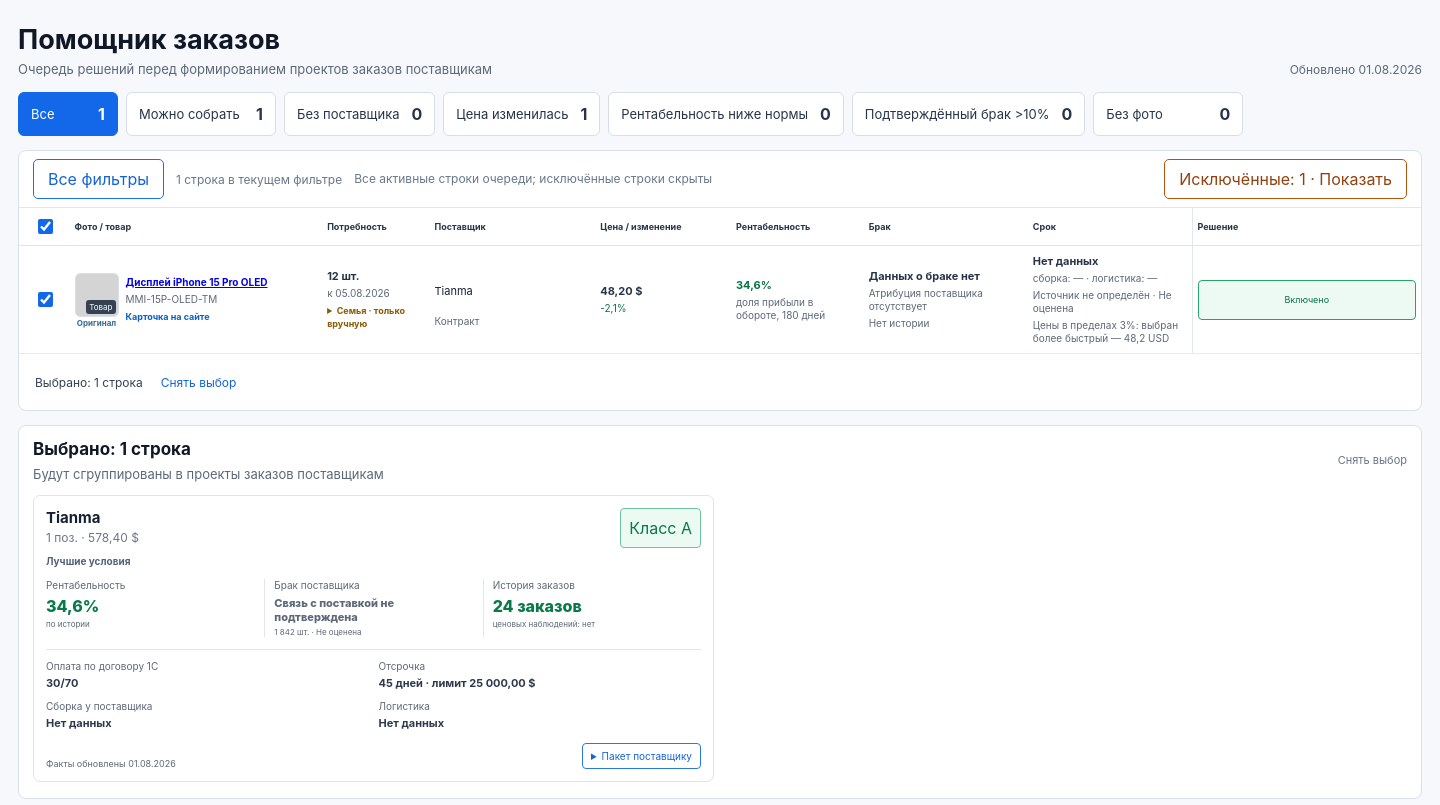
ProcurementOrderAssistant › скрывает снятую потребность до явного раскрытия
This screenshot has width=1440, height=805.
Check: the link "Дисплей iPhone 15 Pro OLED" is shown, box x1=126 y1=276 x2=268 y2=288
Check: the text "Дисплей снятый" is not shown
Click the button "Исключённые: 1 · Показать": (1286, 179) x1=1164 y1=159 x2=1407 y2=199
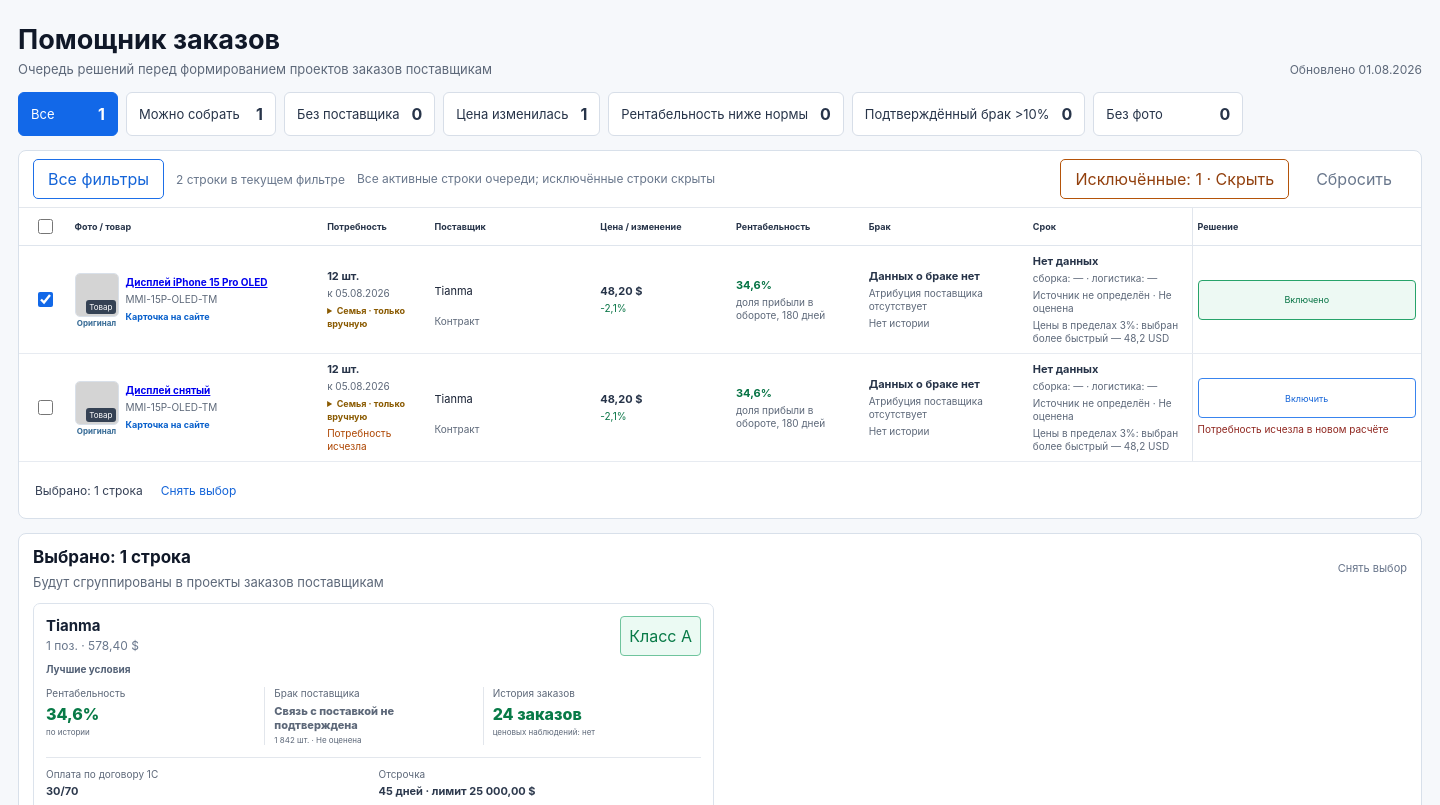
Check: the link "Дисплей снятый" is shown, box x1=126 y1=384 x2=210 y2=396
Check: the button "Исключённые: 1 · Скрыть" is shown, box x1=1060 y1=159 x2=1289 y2=199
Click the button "Можно собрать 1": (201, 114) x1=126 y1=92 x2=276 y2=136
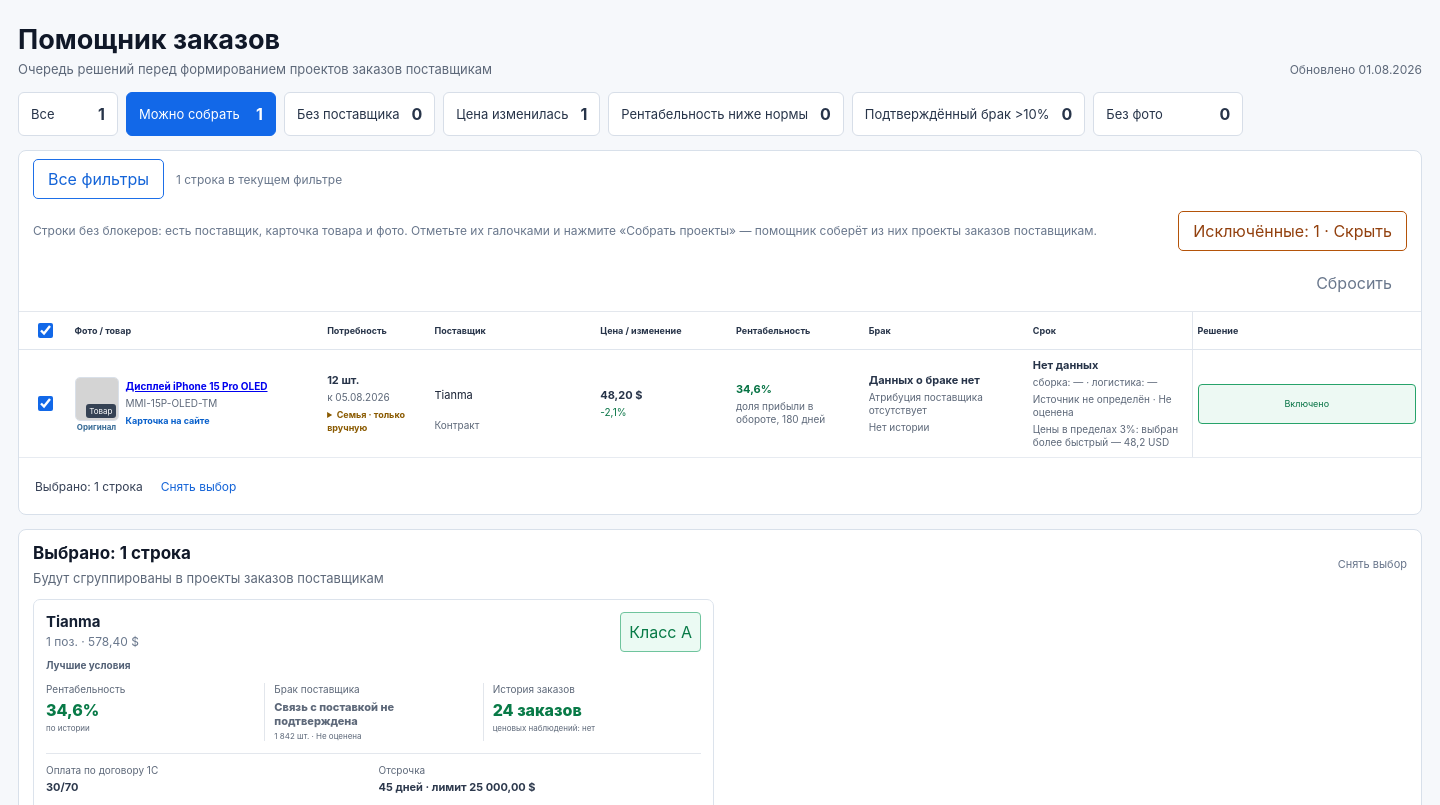
Check: the link "Дисплей снятый" is gone
Check: the text "1 строка в текущем фильтре" is shown, box x1=176 y1=172 x2=342 y2=186
